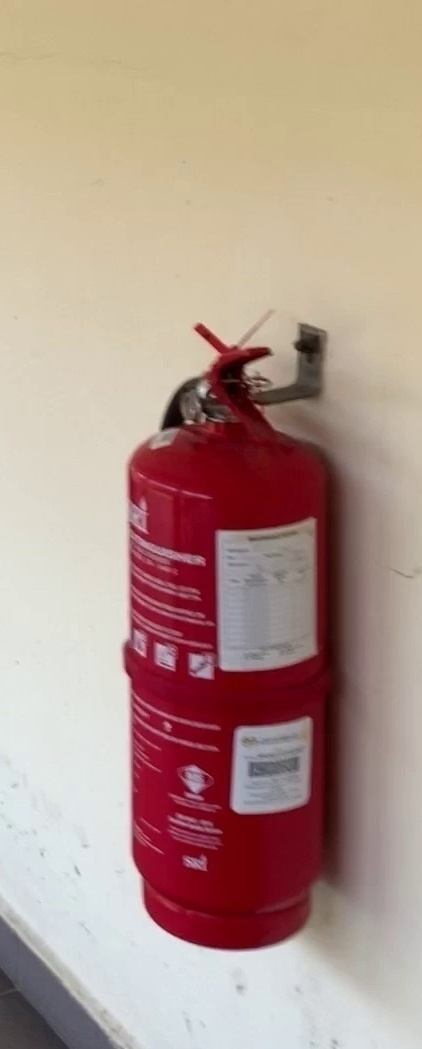fire_extinguisher: (123, 308, 333, 950)
